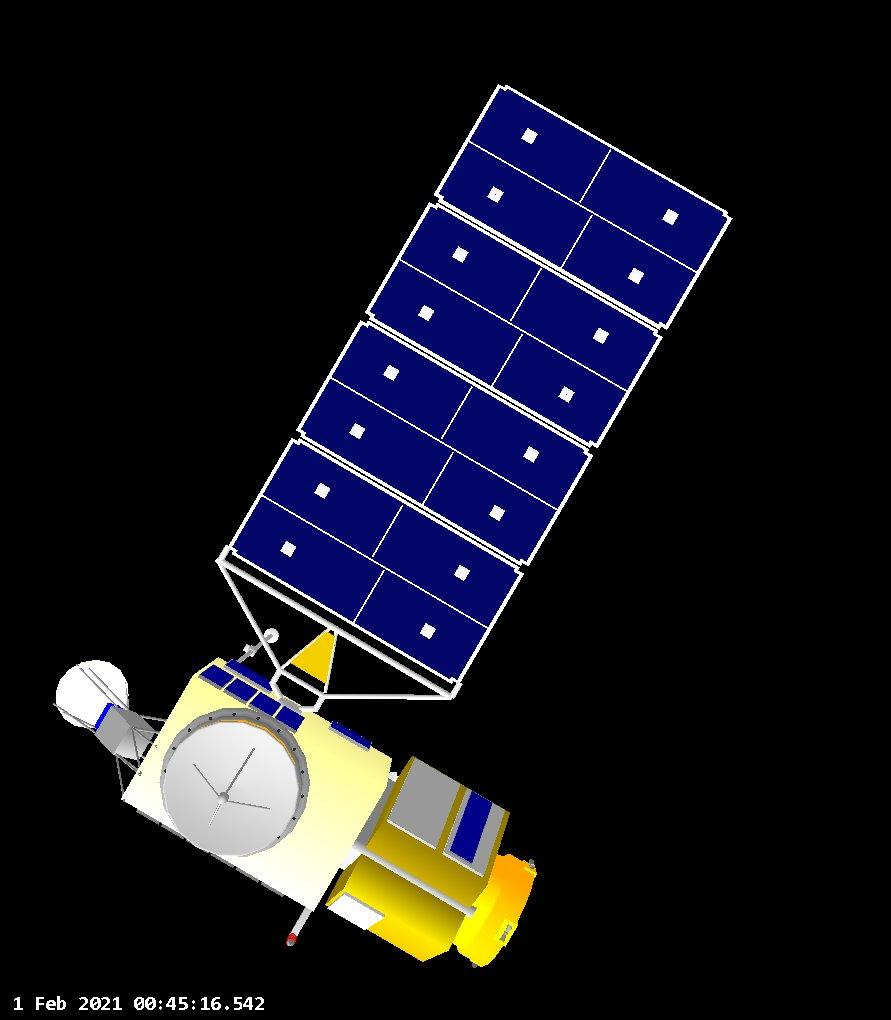antenna: (156, 709, 303, 861), (50, 654, 150, 758)
body: (117, 655, 395, 912)
solar: (209, 77, 741, 710), (196, 661, 309, 732), (449, 787, 497, 866), (325, 719, 375, 752), (223, 657, 273, 689)
thruster: (450, 850, 541, 971)
